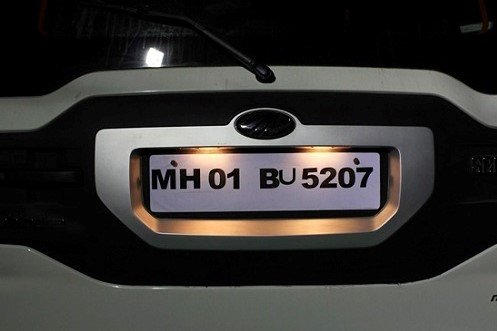MH01BU5207: (148, 150, 382, 211)
